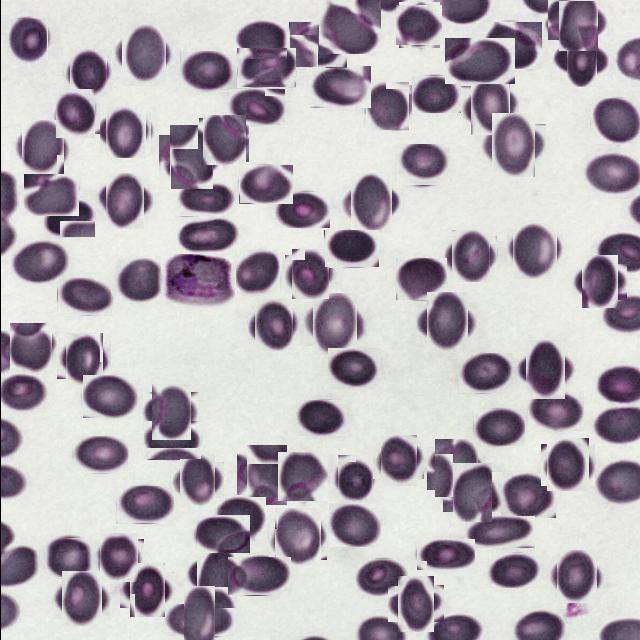red blood cell: (318, 0, 380, 54), (444, 38, 514, 84), (308, 297, 362, 351), (116, 28, 170, 82), (163, 130, 217, 184), (486, 119, 540, 172), (483, 21, 541, 68), (420, 296, 472, 348), (190, 552, 242, 604), (271, 511, 323, 563), (288, 22, 346, 68), (10, 240, 70, 284), (430, 443, 481, 494), (344, 178, 396, 228), (580, 152, 639, 196), (309, 66, 370, 108), (509, 225, 559, 276), (520, 344, 570, 394), (241, 450, 291, 500), (277, 452, 327, 502), (226, 557, 290, 596), (81, 375, 137, 419), (464, 81, 514, 130), (447, 467, 496, 517), (174, 216, 238, 254), (500, 474, 555, 518), (23, 173, 78, 216), (236, 48, 295, 88), (526, 391, 583, 432), (394, 144, 449, 186), (543, 441, 591, 489), (18, 124, 66, 172), (57, 575, 105, 623), (146, 388, 194, 436), (590, 98, 640, 144), (552, 0, 602, 46), (328, 503, 380, 547), (142, 421, 200, 460), (100, 177, 148, 224), (552, 553, 600, 600), (200, 116, 247, 164), (457, 353, 512, 394), (173, 595, 223, 640), (464, 516, 534, 548), (394, 258, 446, 301), (179, 51, 233, 92), (114, 258, 162, 304), (115, 486, 173, 524), (364, 83, 410, 130), (101, 110, 148, 156), (72, 436, 128, 474), (234, 250, 280, 296), (60, 337, 106, 383), (447, 232, 493, 278), (250, 302, 296, 348), (392, 580, 438, 626), (8, 325, 54, 371), (227, 89, 284, 126), (238, 165, 292, 204), (323, 230, 378, 268), (1, 19, 46, 65), (327, 348, 380, 387), (216, 497, 265, 539), (56, 278, 110, 316), (576, 260, 622, 304), (353, 558, 406, 596), (196, 515, 249, 553), (232, 22, 286, 59), (274, 192, 329, 228), (124, 568, 169, 612), (52, 91, 96, 136), (396, 3, 441, 47), (472, 409, 524, 447), (42, 200, 94, 238), (44, 538, 93, 578), (287, 252, 331, 296), (96, 536, 140, 580), (174, 458, 218, 502), (376, 438, 420, 482), (486, 553, 540, 588), (415, 539, 474, 571), (66, 51, 109, 94), (559, 38, 602, 81), (178, 181, 232, 215), (295, 400, 346, 436), (411, 76, 460, 113), (334, 458, 376, 500)
trophozoite: (160, 253, 235, 305)
